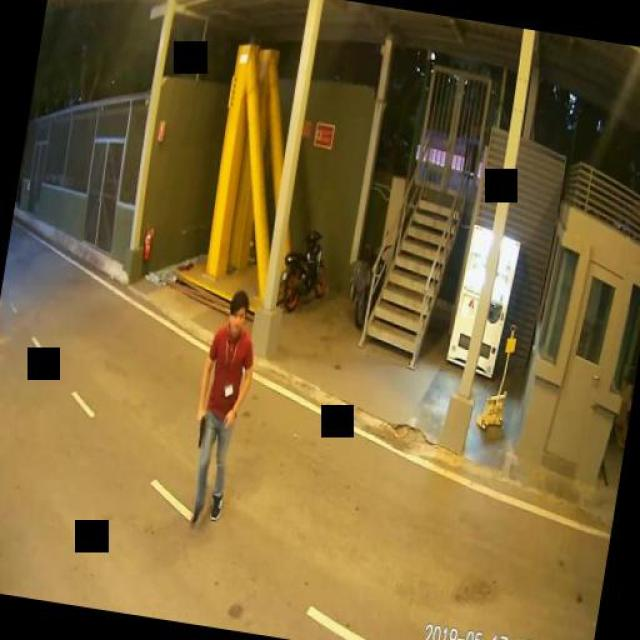gun: (191, 407, 205, 445)
